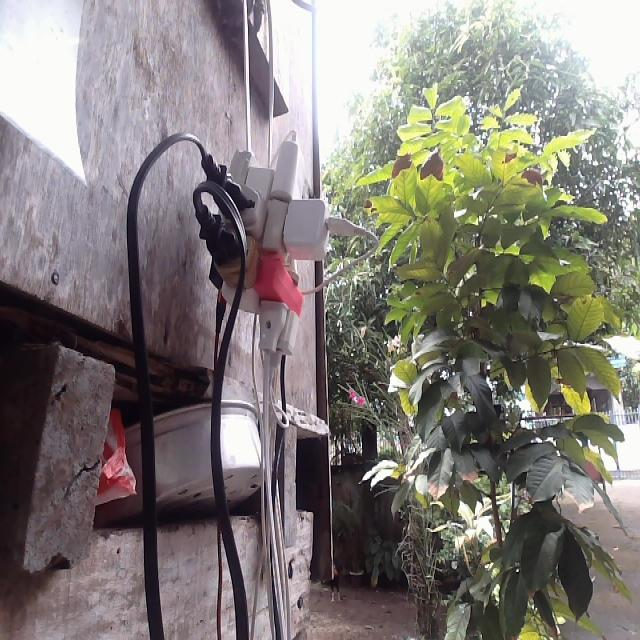-: (193, 126, 357, 362)
